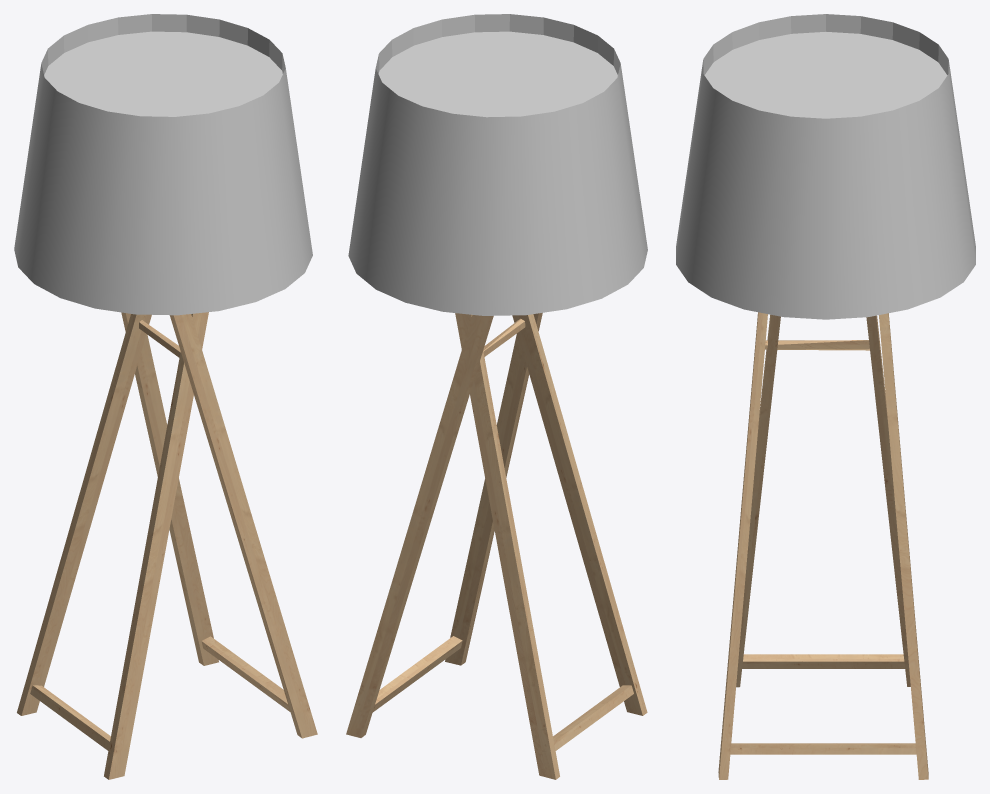
The model's file is Lamp.FBX.
3 views of the same model, side by side, from view 1: azimuth 30°, elevation 25°; view 2: azimuth 150°, elevation 25°; view 3: azimuth 270°, elevation 25° (orthographic).
Visible parts, largest first — view 1: Lamp; view 2: Lamp; view 3: Lamp.
Boxes of the visible parts, x1,y1,x2,y2 form: Lamp: (14,14,317,779); Lamp: (346,14,647,779); Lamp: (676,14,975,779).
Bounding box in the file's own units: 643 × 636 × 1553.
